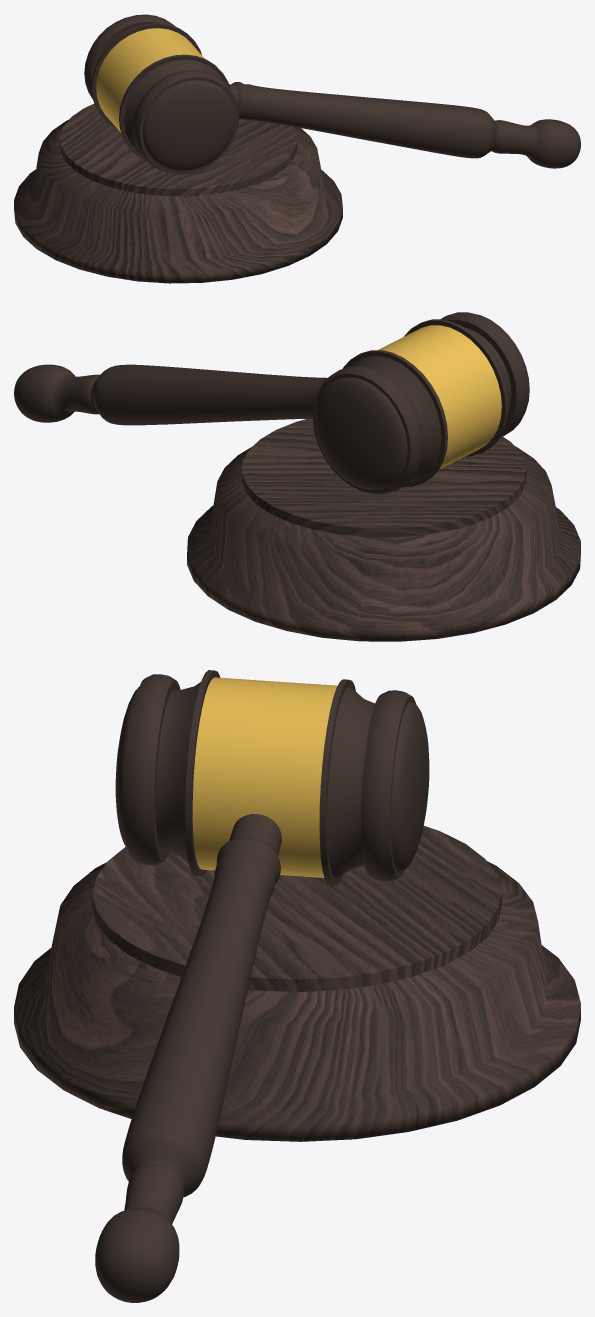
File: patents.glb
3 renders of one model, top to bottom at view 1: azimuth 30°, elevation 25°; view 2: azimuth 150°, elevation 25°; view 3: azimuth 270°, elevation 25°, orthographic. The views are drawn at different scales.
Visible parts, largest first — view 1: Sound-Block_1, Gavel_0; view 2: Sound-Block_1, Gavel_0; view 3: Sound-Block_1, Gavel_0.
Part boxes in pixels (bbox=[...]): Sound-Block_1: bbox=[14, 104, 342, 283]; Gavel_0: bbox=[84, 14, 580, 174]; Sound-Block_1: bbox=[187, 418, 580, 641]; Gavel_0: bbox=[14, 312, 529, 494]; Sound-Block_1: bbox=[14, 826, 580, 1141]; Gavel_0: bbox=[95, 670, 429, 1302].
Size of the model in its own units: 0.26 by 0.093 by 0.1499.
Materials: 2 (1 with a texture image).
